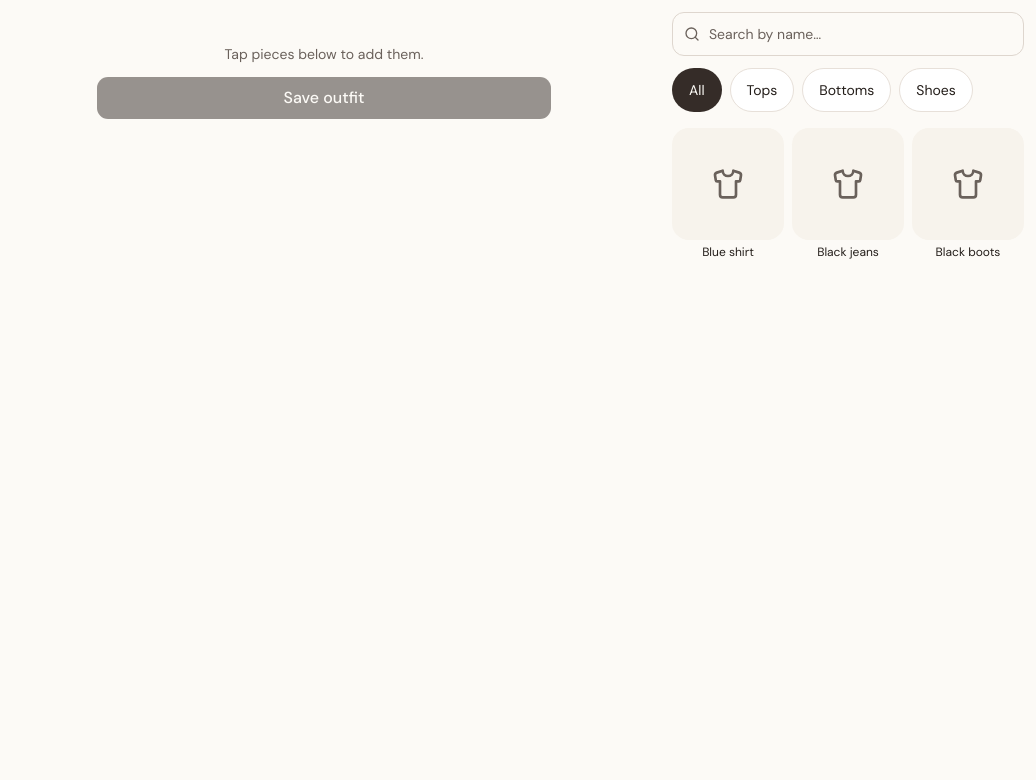
Test case: opens the Save form once something is on the canvas, and goes back
The width and height of the screenshot is (1036, 780).
Expected: the button "Save outfit" is disabled, [96,76,552,120]
Click the button "Blue shirt" at point(728, 194), box [672,128,784,260]
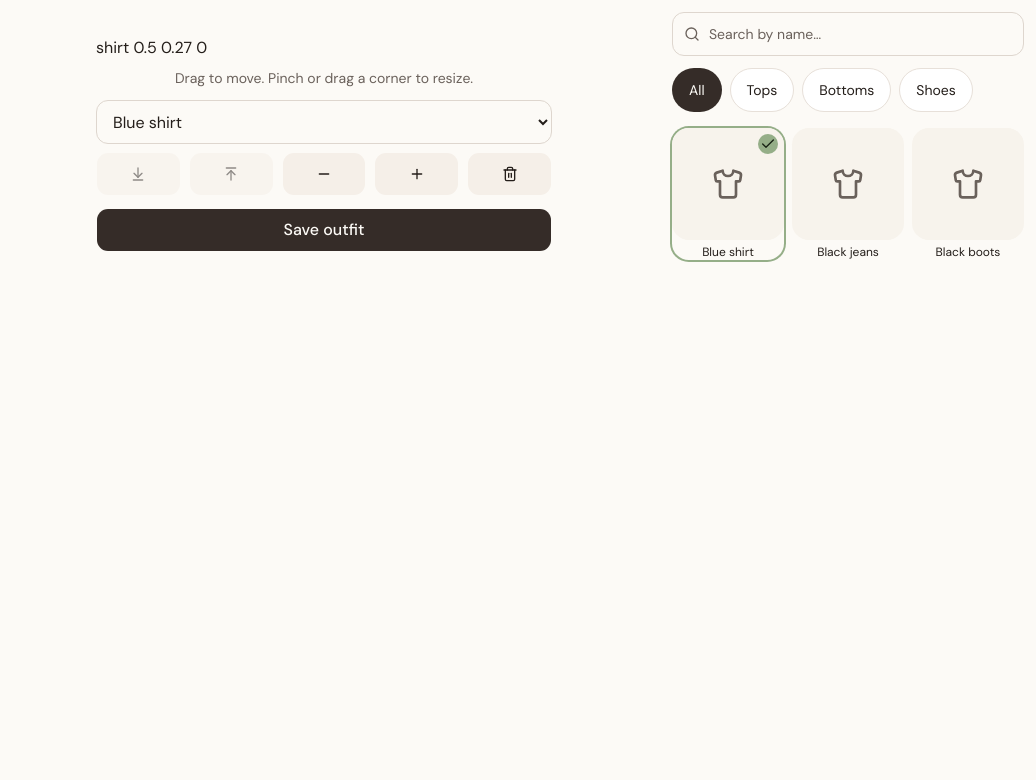
Click the button "Save outfit" at point(324, 230), box [96,208,552,252]
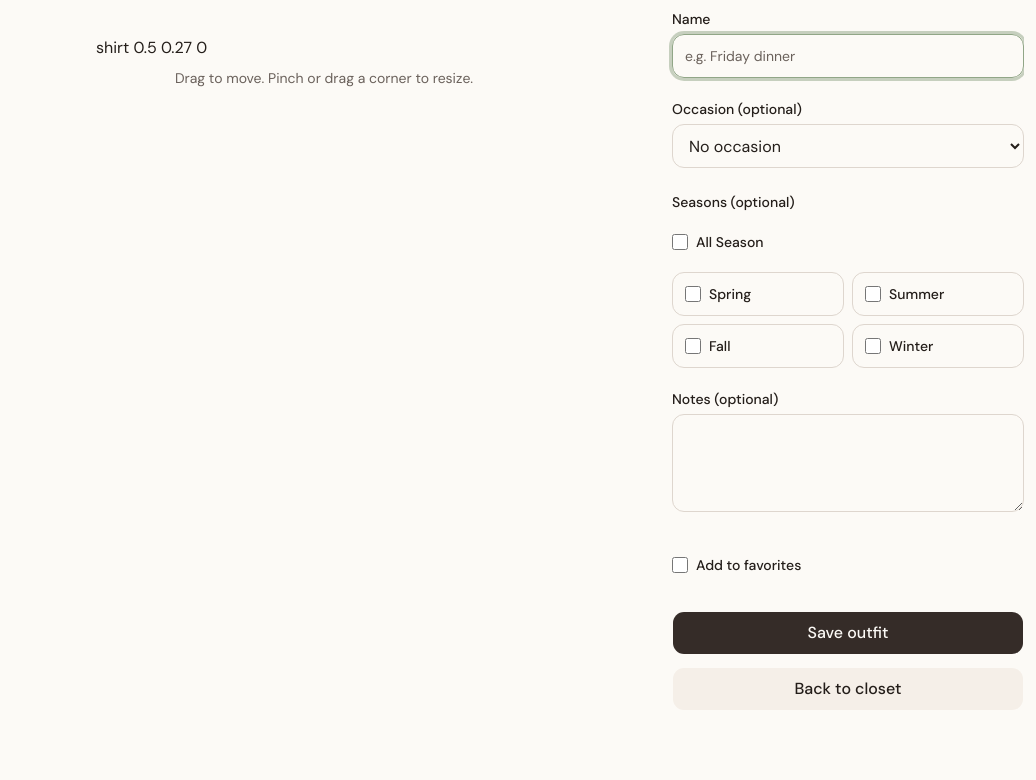
Result: the form named "Save outfit" is shown at [672,12,1024,711]
Click the button "Back to closet" at point(848, 689), box [672,667,1024,711]
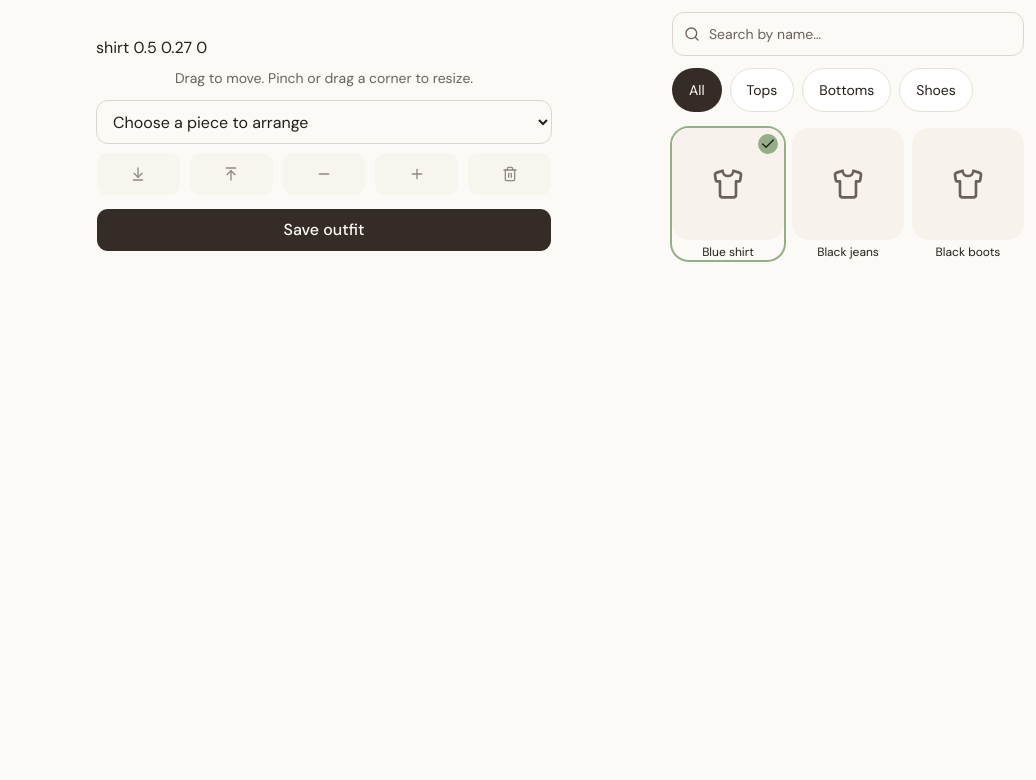
Result: the search field named "Search your closet" is shown at [672,12,1024,56]
